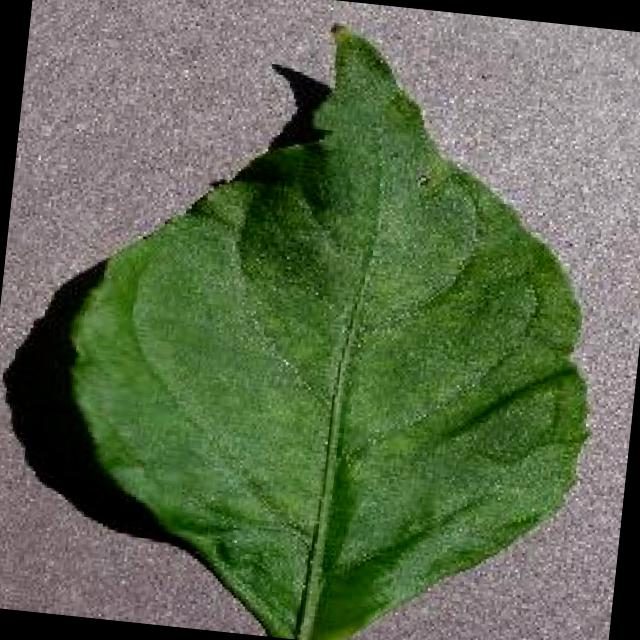Leaf: (113, 158, 566, 555)
